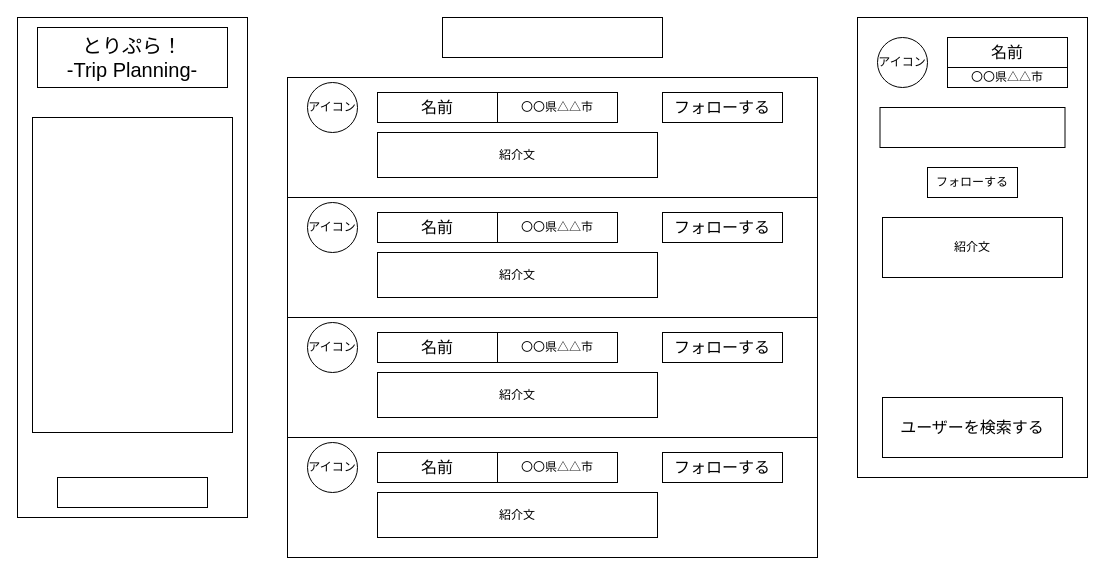
This 1105x575 diagram has some shape labels left out. Here are the shapes that lost their labels. From the top down, the box of each, then its label:
(442, 16, 662, 58): フォロー中
(879, 106, 1065, 148): フォロー中 〇〇人 フォロワー 〇〇人
(32, 116, 232, 432): HOME スケジュール タイムライン 検索 投稿
(56, 476, 208, 508): ログアウト
